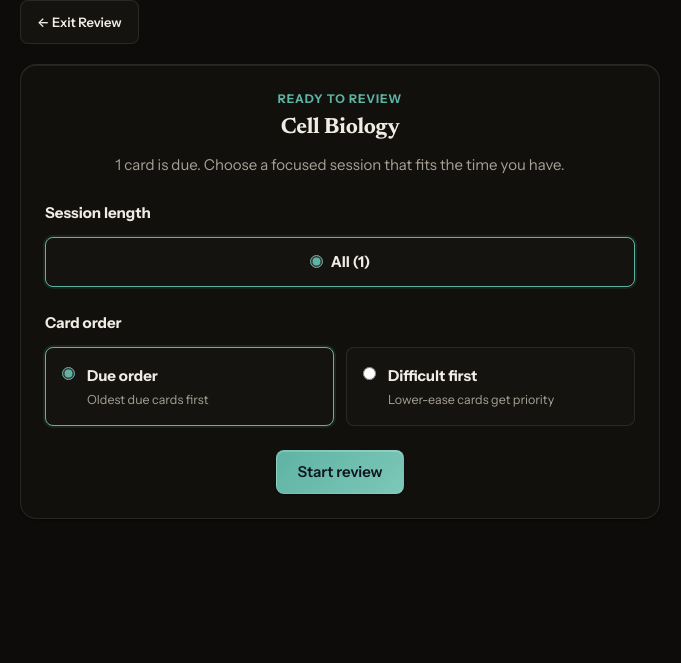
Test: ReviewView › flips on click and reveals the grading controls
What coordinates should you click on to do the following:
click the button "Start review"
I would click on:
 (340, 472)
Its box is [276,450,404,494].
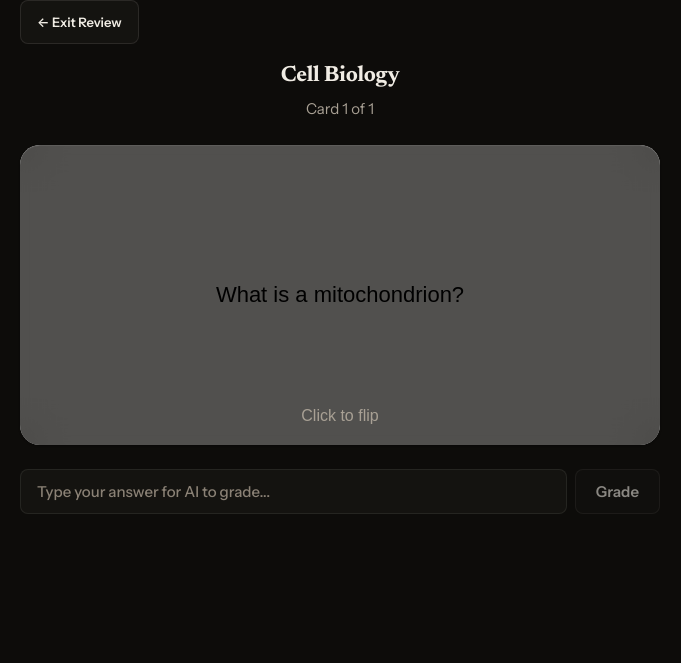
Result: the text "What is a mitochondrion?" is shown at [216,282,464,308]
What coordinates should you click on to do the following:
click the button with aria-label "Flip card to see the answer"
I would click on:
 (340, 295)
Its box is [20,145,660,445].
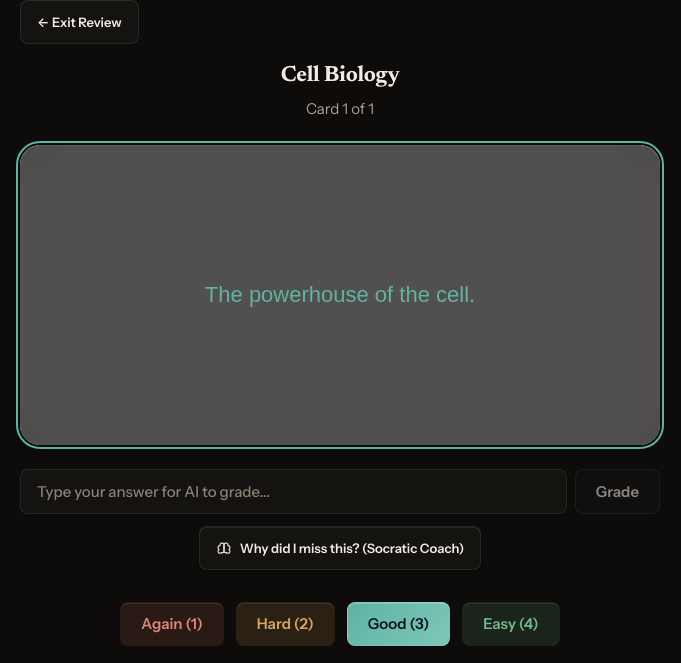
Result: the text "The powerhouse of the cell." is shown at [205,282,475,308]
Result: the text "Click to flip" is gone
Result: the button "Again (1)" is shown at [120,602,224,646]
